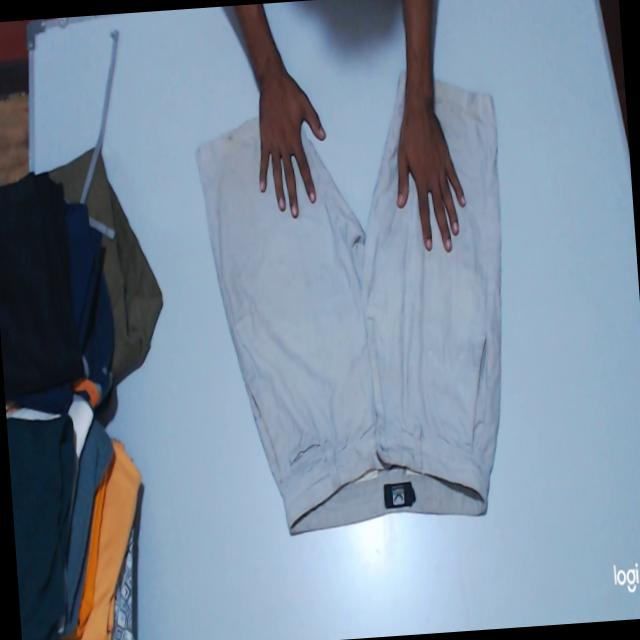new-garment: (197, 73, 501, 532)
